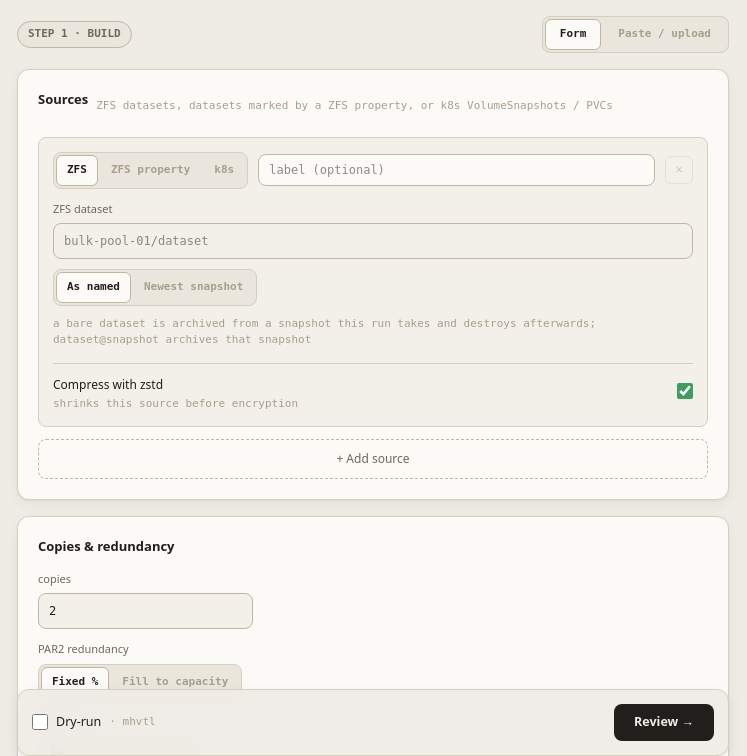
Test: ConfigPage › keeps the form unchanged and shows a notice when switching from malformed JSON to Form mode
Expected: the element named "config input mode" is shown, [542,16,729,52]
Click the button "Paste / upload" at x=665, y=34, box [603,19,726,50]
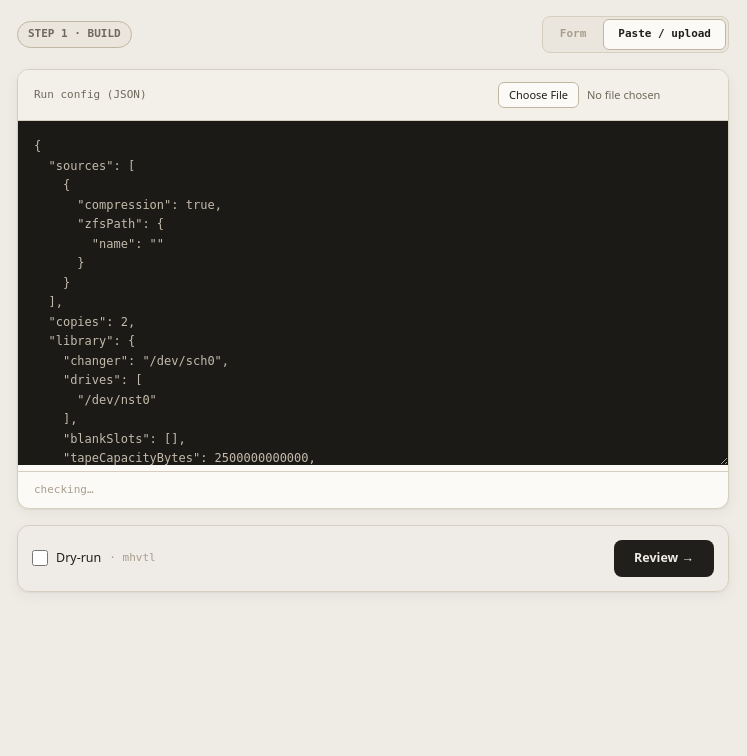
Replace the text in the text box labelled "Run config (JSON)" with "not json" at x=373, y=293, box [18,121,728,465]
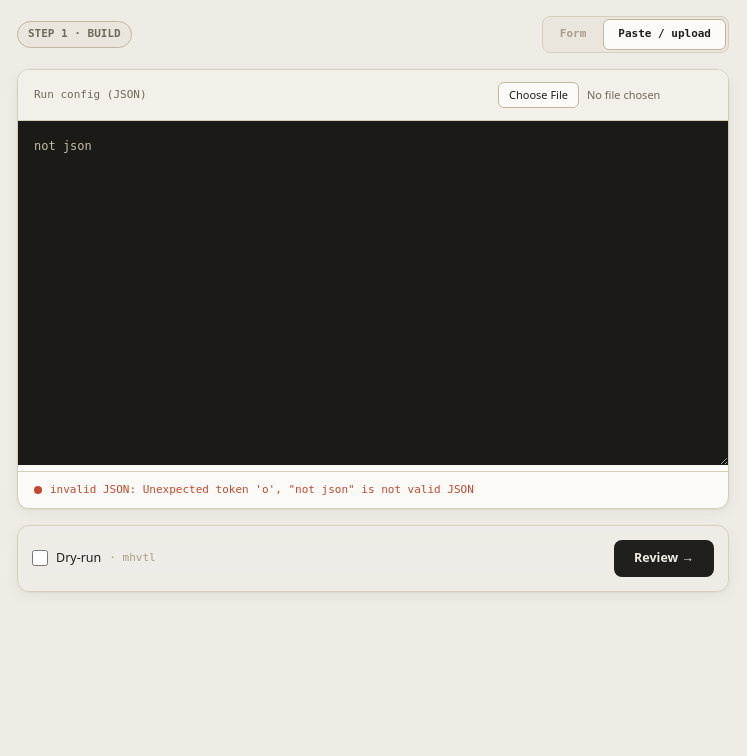
Click the button "Form" at x=573, y=34, box [545,19,601,50]
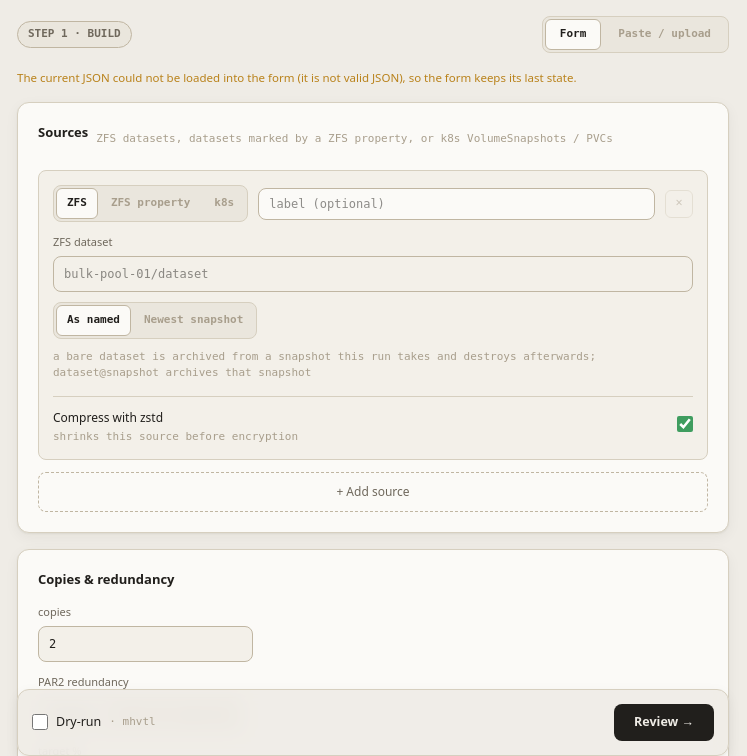
Expected: the text "could not be loaded into the form" is shown, [17,70,576,84]
Expected: the field with placeholder "bulk-pool-01/dataset" is empty, [53,256,693,292]
